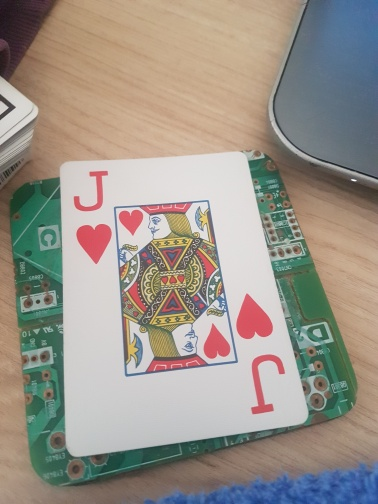jack: (59, 151, 310, 455)
